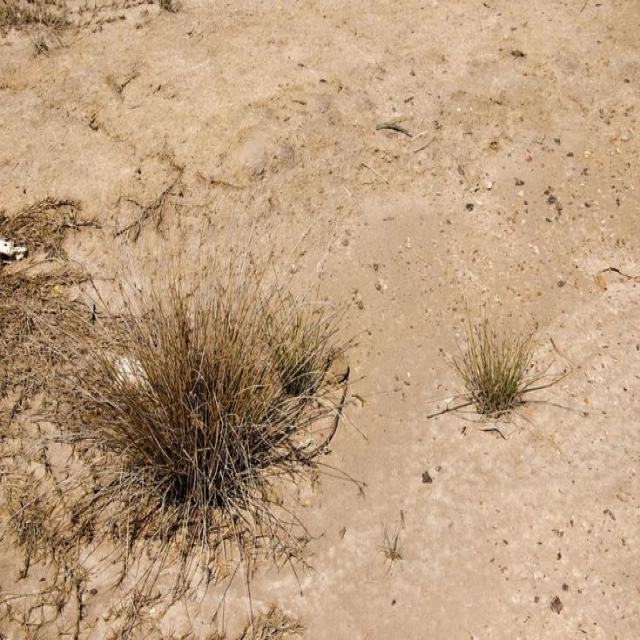suelo_seco: (225, 36, 419, 192)
